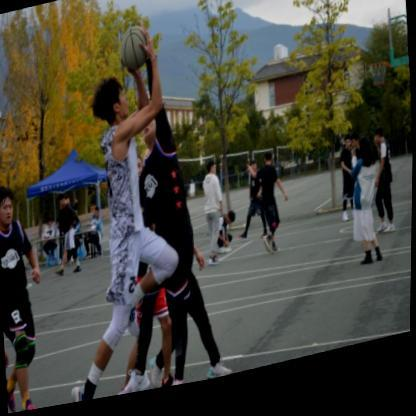basketball: (118, 29, 148, 78)
